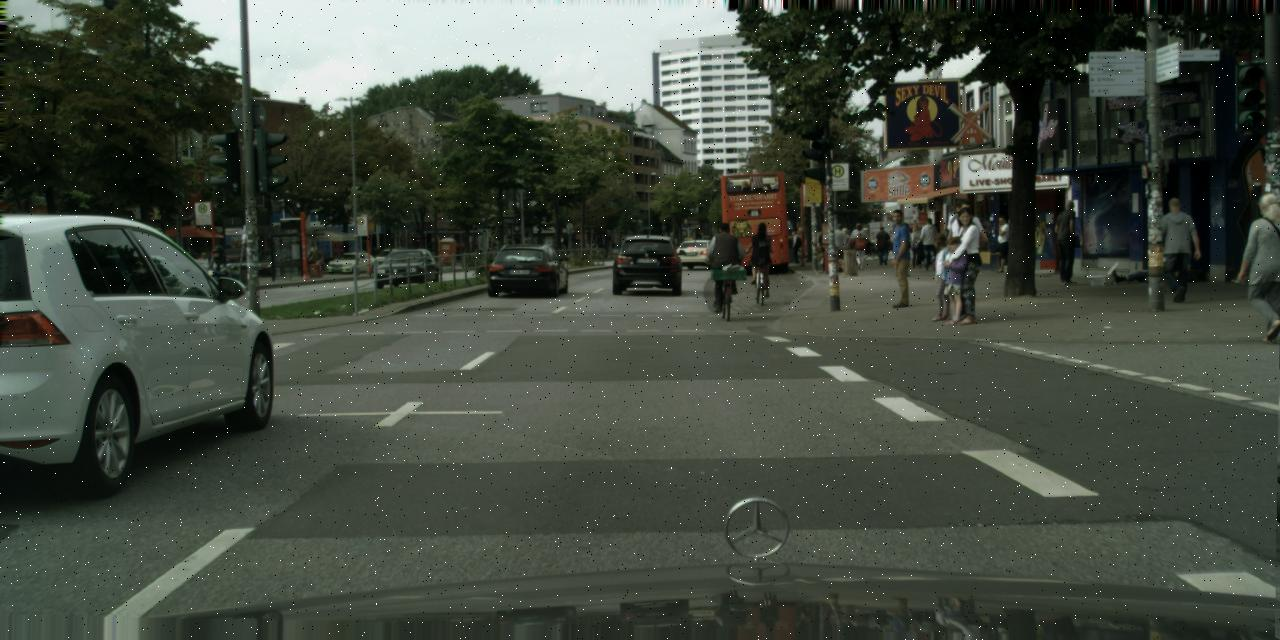ped: (1240, 194, 1278, 343), (942, 207, 988, 321), (1156, 198, 1198, 302), (940, 198, 981, 301), (880, 209, 919, 307), (936, 235, 971, 323), (923, 232, 958, 319), (1050, 199, 1084, 284), (708, 222, 740, 301), (747, 222, 775, 289), (892, 222, 914, 276), (919, 218, 940, 270), (830, 222, 850, 272), (990, 215, 1010, 261), (907, 223, 925, 268), (850, 224, 868, 268), (207, 245, 224, 289), (874, 226, 890, 264), (849, 224, 864, 264), (788, 230, 801, 262), (197, 252, 210, 284), (842, 230, 854, 262), (839, 228, 850, 254), (311, 247, 321, 273)
